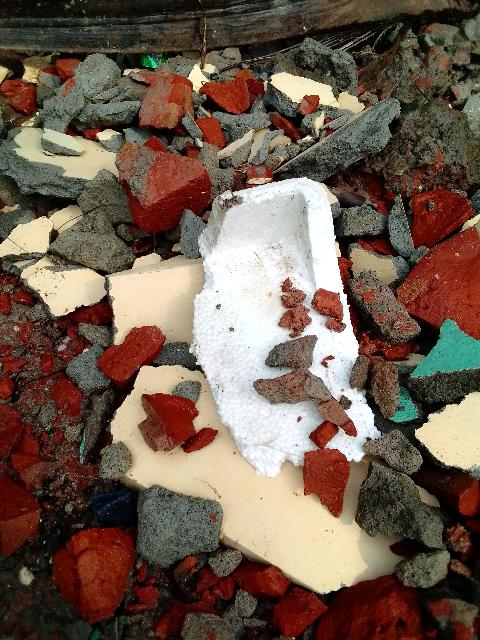cocksheet: (191, 176, 377, 472)
